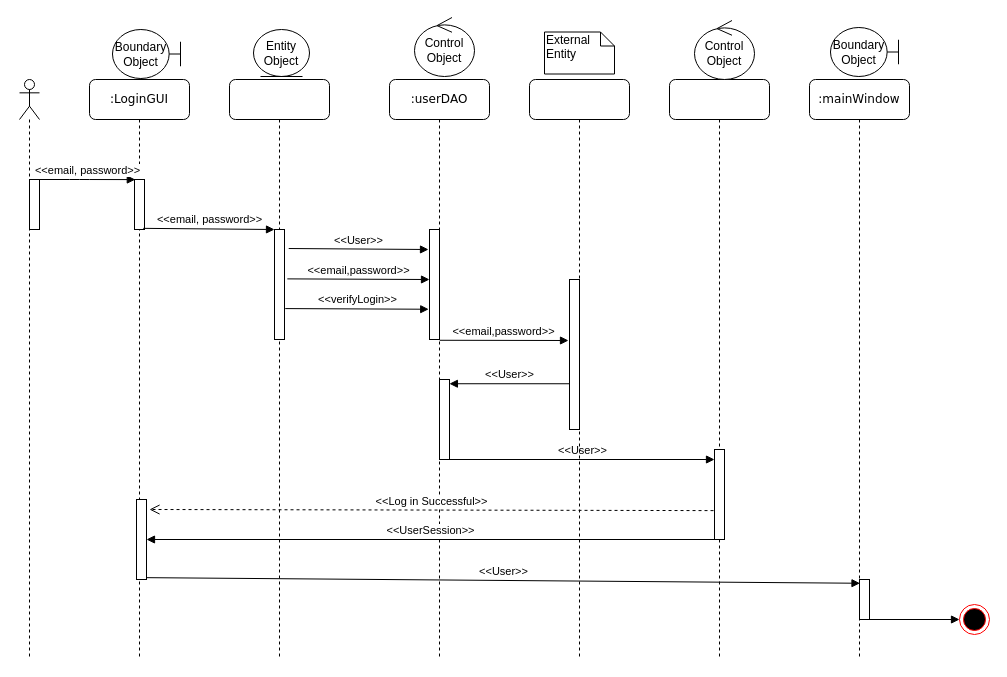
Some shapes in this 1007 by 677 pixel diagram are drawn without their labels. The shapes that lost their labels are listed below. From the top down, each one's box as (x1, y1, x2, y2) in pixels, then its label:
(18, 78, 40, 660): User
(228, 78, 330, 660): :User
(528, 78, 630, 660): :DB
(668, 78, 770, 660): :userSession
